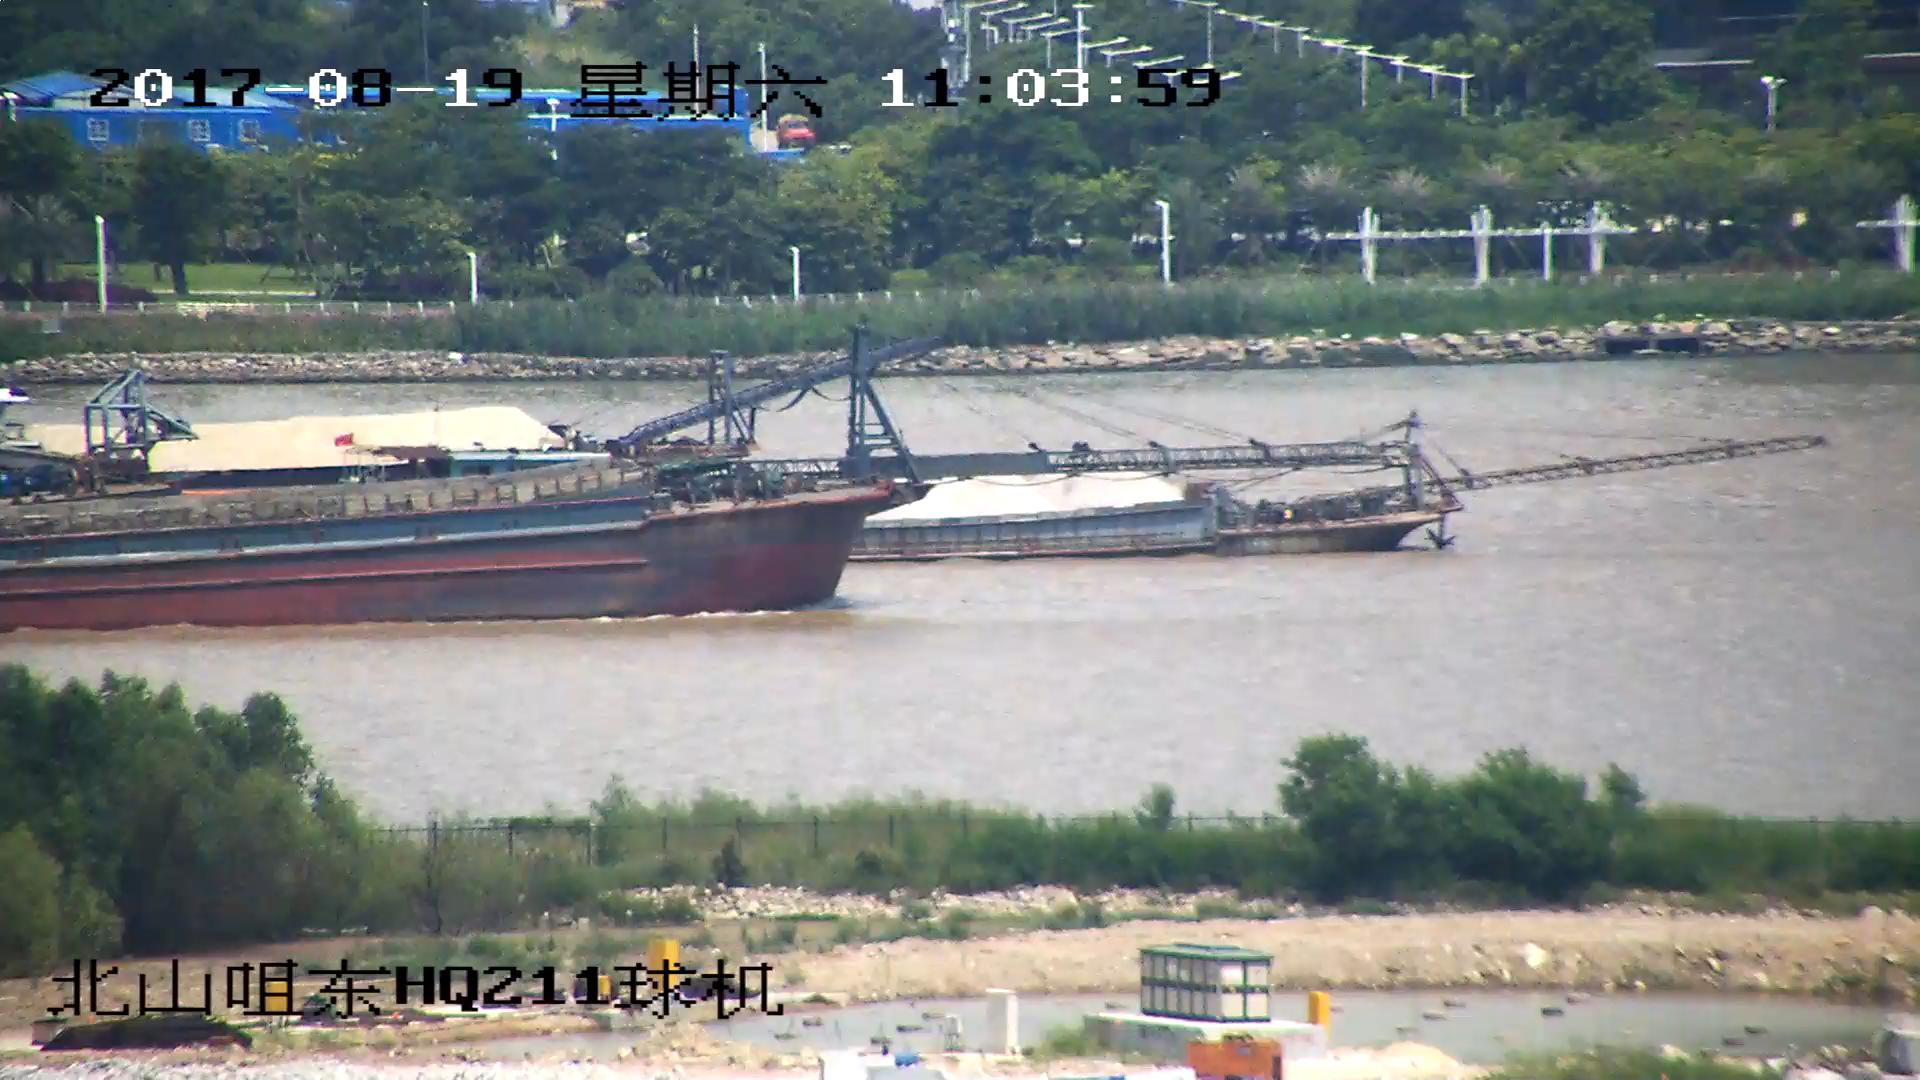bulk cargo carrier: (1, 338, 1354, 634)
ore carrier: (1, 330, 956, 501), (842, 421, 1830, 564)
